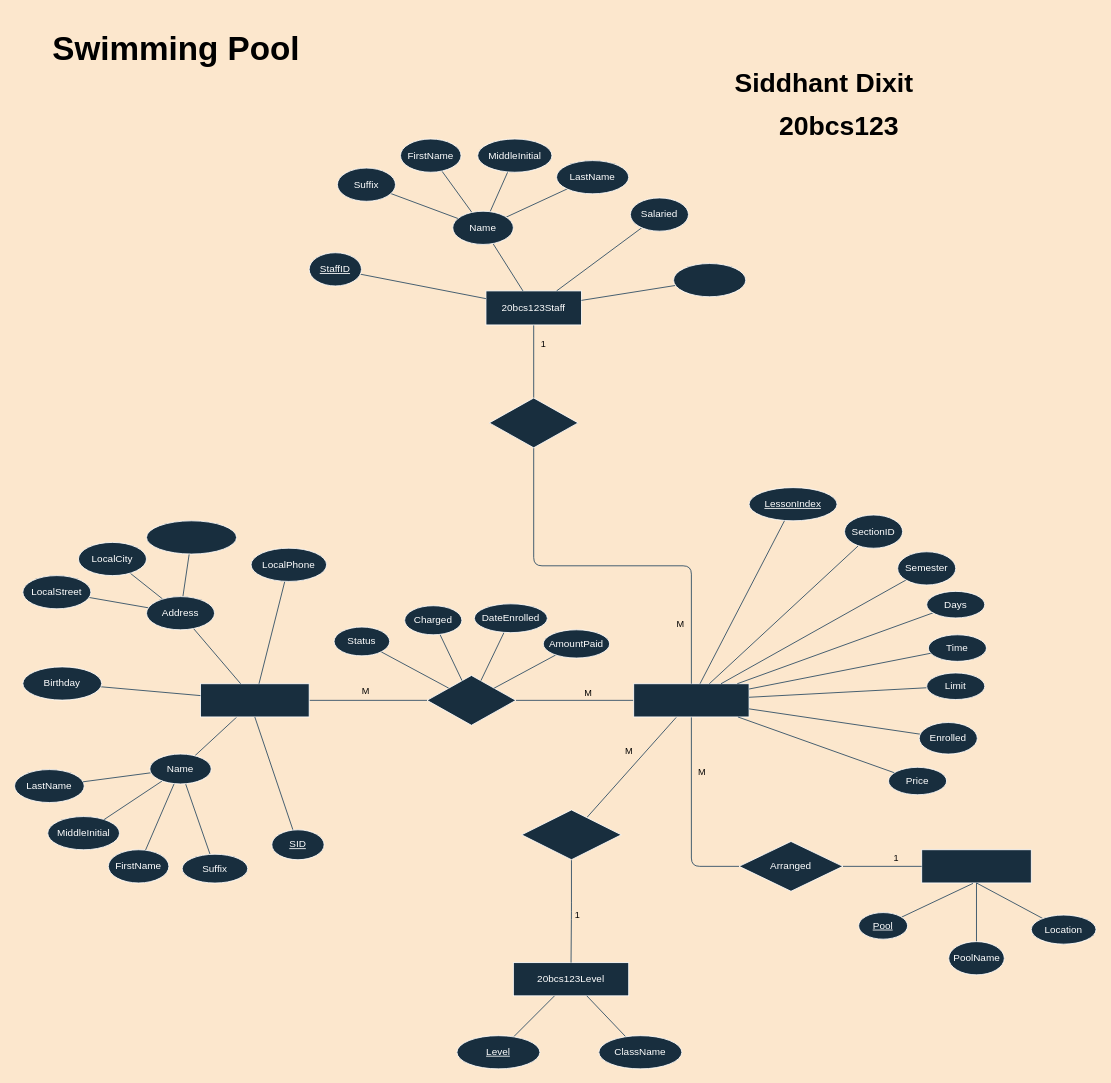
Image size: 1111x1083. Some labels were removed from this diagram. The shapes that lost their labels are listed below. From the top down, each one's centre as x and y in pixels, then its label:
At (709,280): "PayAmount".
At (533,422): "Teaches".
At (191,537): "LocalPostalCode".
At (254,700): "20bcs123Student".
At (471,700): "Enrollment".
At (691,700): "20bcs123Classes".
At (571,834): "has".
At (976,866): "20bcs123Pool".
